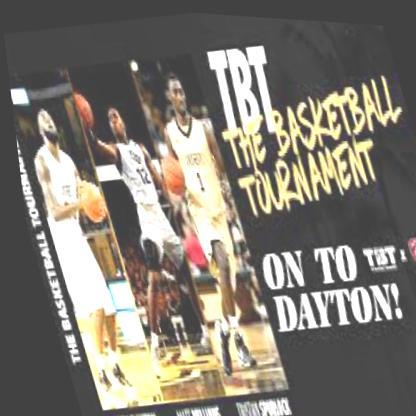basketball: (154, 150, 186, 195), (72, 179, 104, 222), (70, 88, 94, 131)
